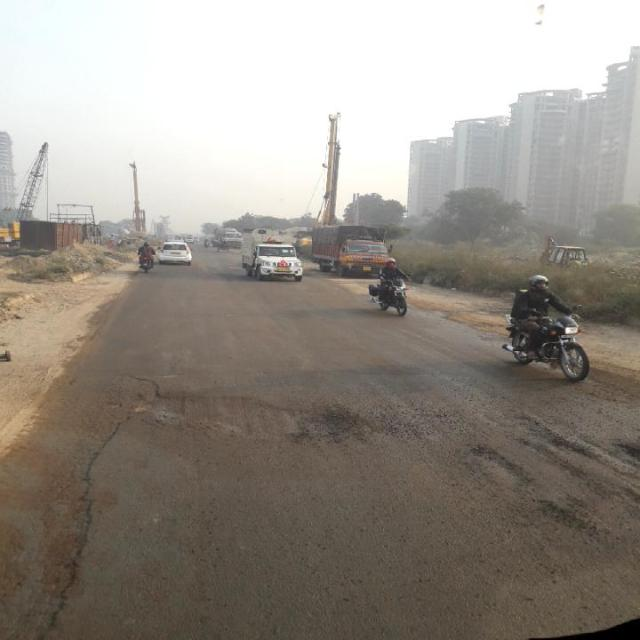Surface Erosion: (140, 337, 640, 622)
